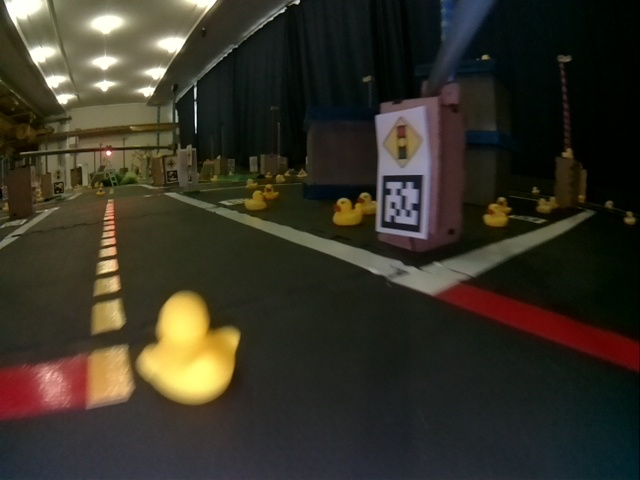Duckie: (138, 294, 240, 403), (333, 200, 362, 225), (483, 204, 508, 227), (357, 192, 376, 215), (247, 191, 264, 210), (263, 185, 278, 199), (536, 199, 551, 213), (246, 179, 257, 189), (276, 174, 285, 184)
QR code: (379, 173, 426, 234), (509, 215, 546, 225)
Signal sign: (382, 116, 423, 168)
Traffic light: (104, 147, 113, 156)
